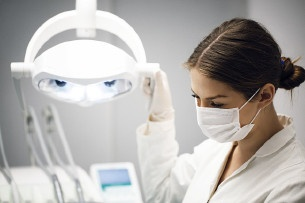Mask: (190, 84, 247, 142)
